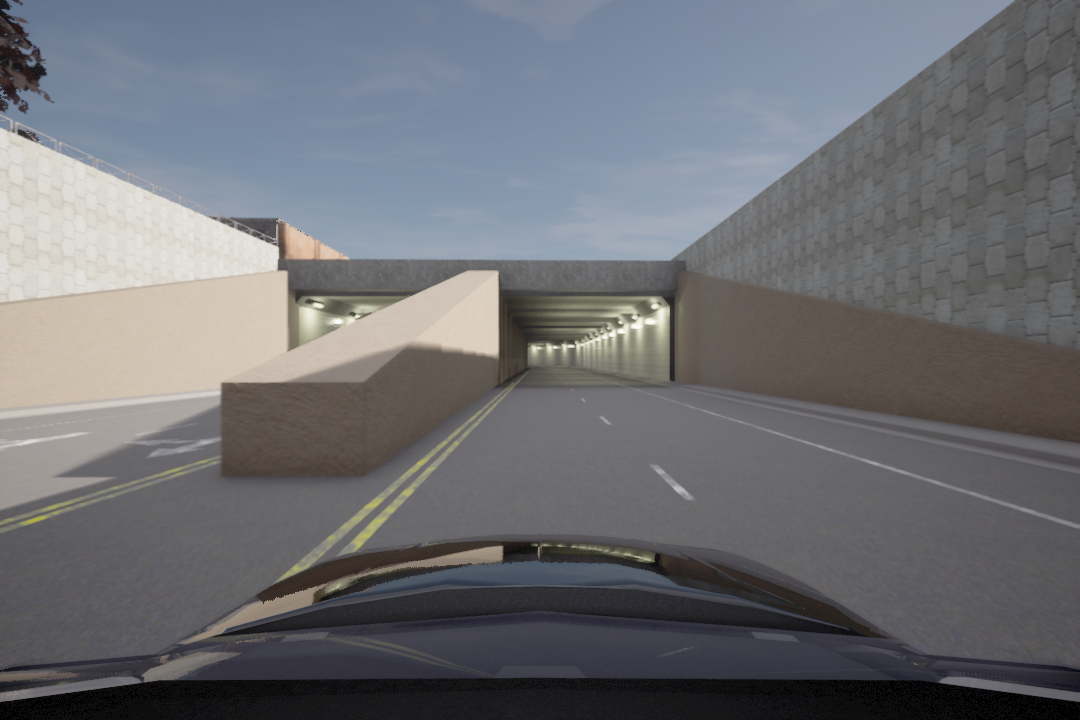RoadSign_forward_right: (121, 433, 224, 461)
